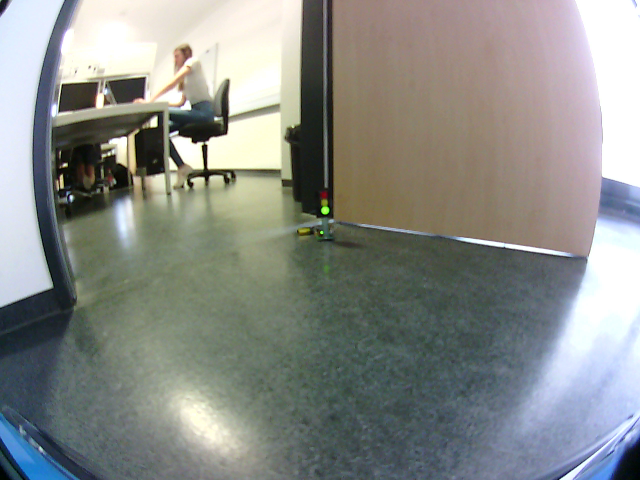green trafficlight: (317, 190, 331, 218)
